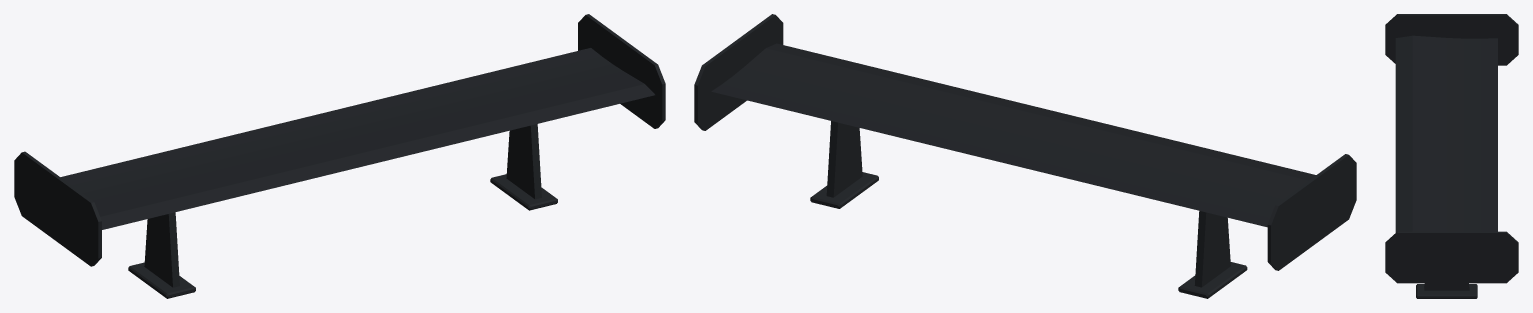
The model's file is apex_v8.glb.
The picture shows the model from 3 angles, left to right: view 1: azimuth 30°, elevation 25°; view 2: azimuth 150°, elevation 25°; view 3: azimuth 270°, elevation 25°; orthographic projection. The views are drawn at different scales.
Visible parts, largest first — view 1: wing_element, model; view 2: wing_element, model; view 3: wing_element, model.
Part boxes in pixels (box(x1,y1,x2,y2)): wing_element: box(14, 14, 665, 266); model: box(128, 124, 557, 298); wing_element: box(694, 14, 1356, 270); model: box(810, 121, 1247, 298); wing_element: box(1385, 14, 1518, 283); model: box(1416, 283, 1477, 298).
Size of the model in its own units: 1.32 by 0.2812 by 0.338.
1 material, 1 textured.
